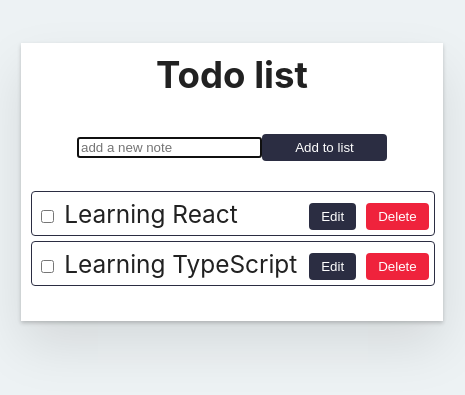
Test case: Test Todo list with initial data › Shoud not add empty note when input field is empty and show error
Click the button "Add to list" at (324, 147), box [262,134,387,161]
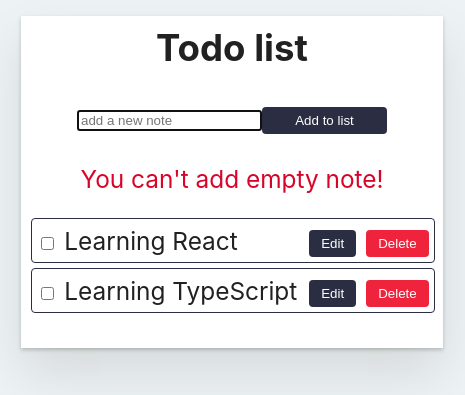
Expected: the text "You can't add empty note!" is shown, [80,164,384,194]
